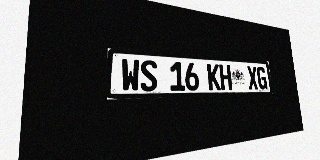1: (169, 61, 185, 91)
6: (184, 62, 199, 91)
G: (256, 67, 268, 89)
H: (219, 64, 232, 90)
K: (207, 64, 221, 90)
S: (140, 60, 158, 92)
W: (121, 58, 140, 92)
X: (247, 66, 258, 90)
